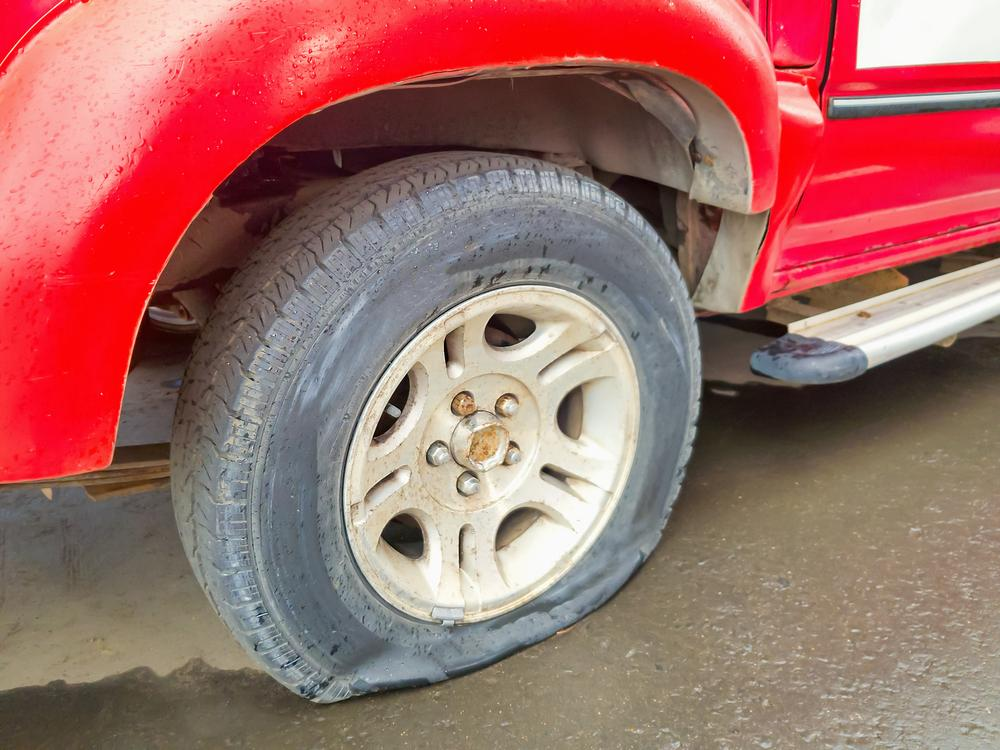tire flat: (163, 148, 706, 703)
